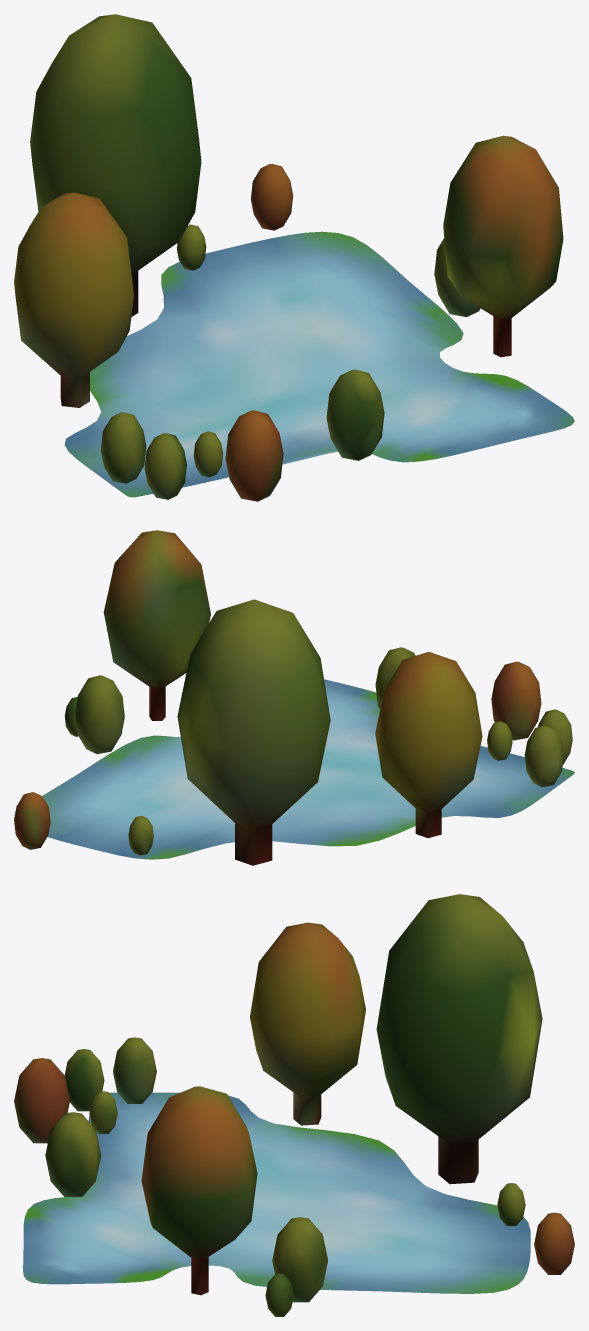
Rendered from SM_Forest_3.glb.
The picture shows the model from 3 angles, top to bottom: view 1: azimuth 30°, elevation 25°; view 2: azimuth 150°, elevation 25°; view 3: azimuth 270°, elevation 25°; orthographic projection. The views are drawn at different scales.
Visible parts, largest first — view 1: Forester_3, SM_Pond; view 2: Forester_3, SM_Pond; view 3: Forester_3, SM_Pond.
Boxes of the visible parts, box(x1,y1,x2,y2) form: Forester_3: box(14, 14, 563, 501); SM_Pond: box(64, 231, 574, 497); Forester_3: box(14, 530, 572, 865); SM_Pond: box(42, 679, 574, 859); Forester_3: box(14, 894, 574, 1316); SM_Pond: box(23, 1092, 530, 1293).
Bounding box in the file's own units: 6.44 × 3.71 × 6.68.
